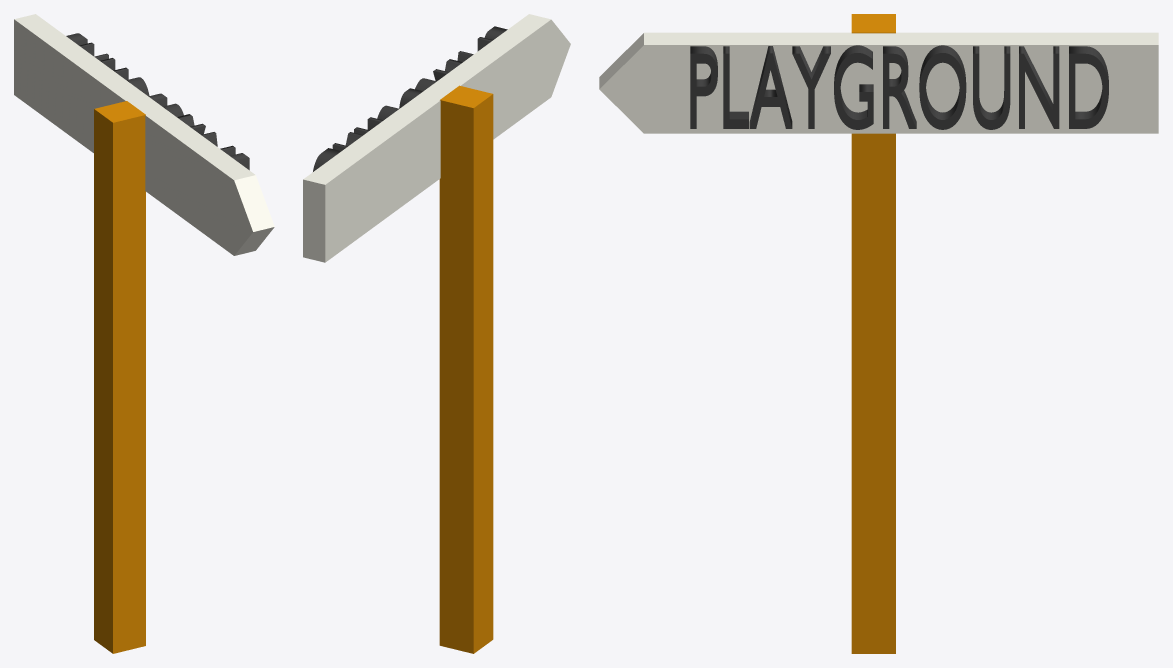
File: PLAYGROUND.fbx
3 views of the same model, side by side, from view 1: azimuth 30°, elevation 25°; view 2: azimuth 150°, elevation 25°; view 3: azimuth 270°, elevation 25° (orthographic). The views are drawn at different scales.
Visible parts, largest first — view 1: Cube, Cubo, Texto; view 2: Cube, Cubo, Texto; view 3: Cubo, Cube, Texto.
Boxes of the visible parts, x1=… form: Cube: x1=94, y1=101, x2=145, y2=653; Cubo: x1=14, y1=14, x2=274, y2=255; Texto: x1=66, y1=33, x2=249, y2=170; Cube: x1=439, y1=85, x2=493, y2=653; Cubo: x1=303, y1=14, x2=570, y2=262; Texto: x1=313, y1=26, x2=507, y2=171; Cubo: x1=599, y1=32, x2=1158, y2=133; Cube: x1=851, y1=14, x2=895, y2=653; Texto: x1=690, y1=45, x2=1108, y2=129.
Bounding box in the file's own units: 47.85 × 359 × 293.
